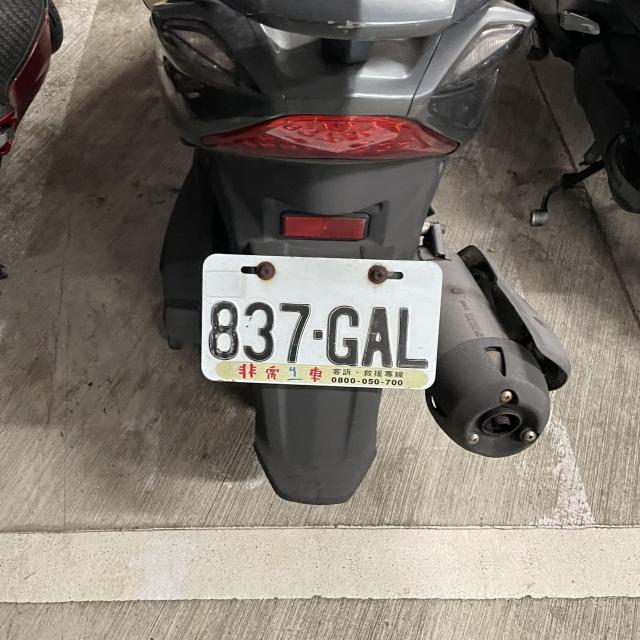W: (199, 254, 441, 391)
